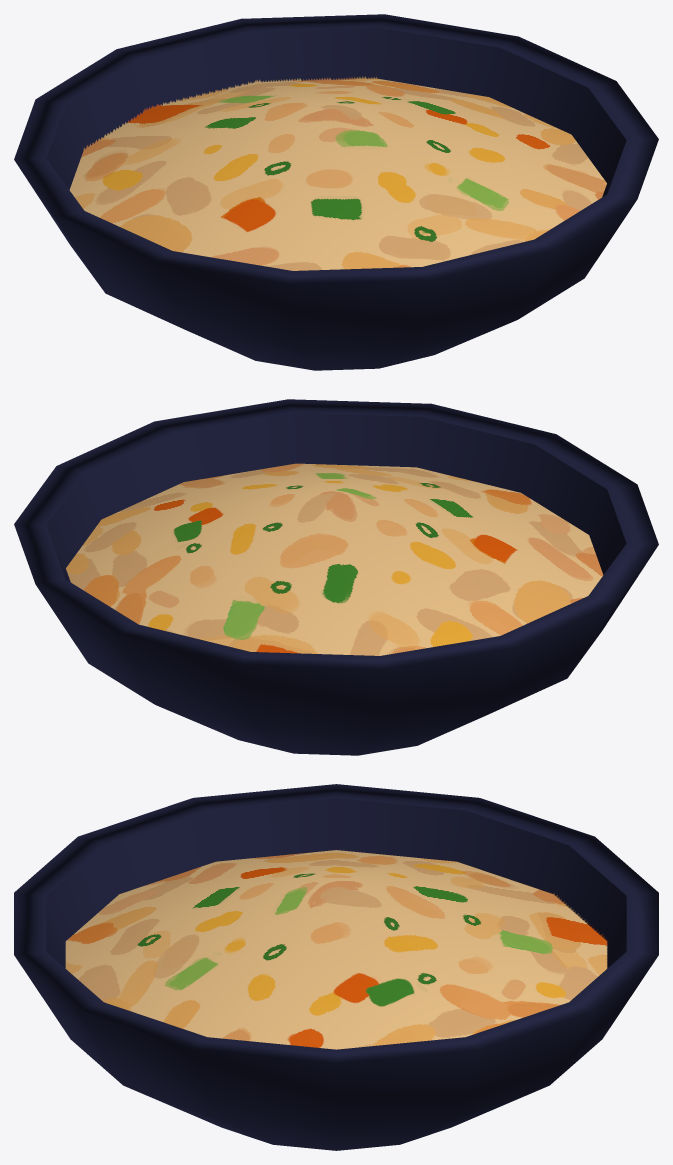
File: eggFriedRice.fbx
3 renders of one model, top to bottom at view 1: azimuth 30°, elevation 25°; view 2: azimuth 150°, elevation 25°; view 3: azimuth 270°, elevation 25°, orthographic. The views are drawn at different scales.
Parts seen in each view (by area): view 1: egg fried rice; view 2: egg fried rice; view 3: egg fried rice.
Part boxes in pixels (bbox=[...]): egg fried rice: bbox=[14, 14, 658, 370]; egg fried rice: bbox=[14, 399, 658, 755]; egg fried rice: bbox=[14, 784, 658, 1150].
Size of the model in its own units: 44.15 by 15.08 by 43.04.
1 material, 1 textured.
